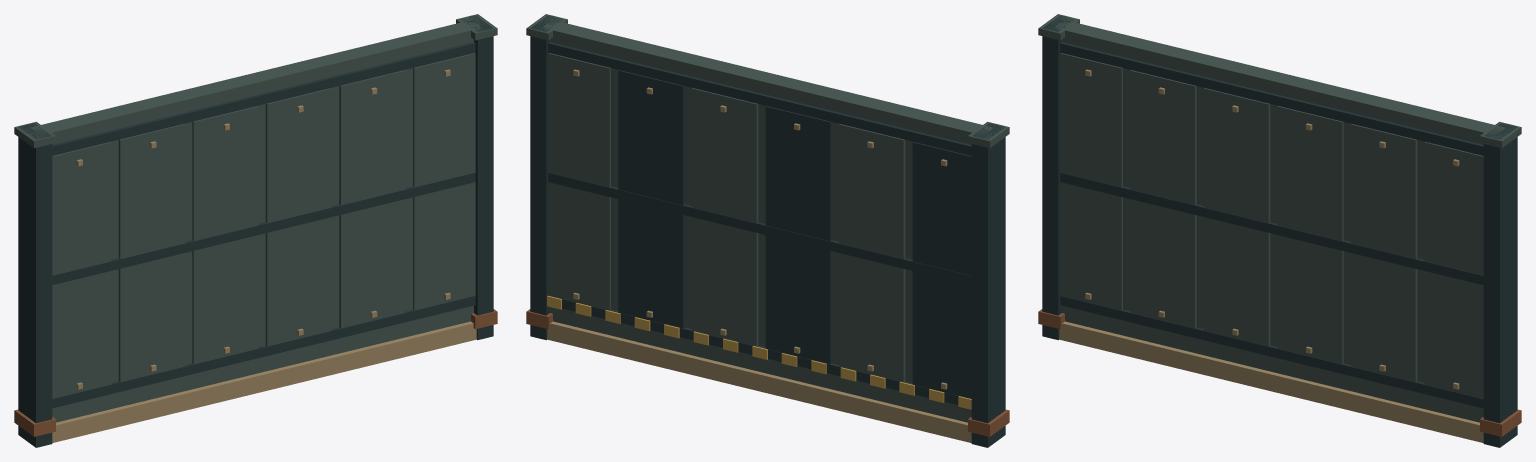
The model's file is FSA_ENV_Protected_Straight.glb.
3 renders of one model, left to right at view 1: azimuth 30°, elevation 25°; view 2: azimuth 150°, elevation 25°; view 3: azimuth 330°, elevation 25°, orthographic.
Parts seen in each view (by area): view 1: X_ContinuousBlocker, X_PlateBack3_5, X_PlateBack4_5, X_PlateBack1_5, X_PlateBack2_5, X_PlateBack5_5, X_PlateBack0_5, X_Post0, X_Foot, X_Post6, X_Rail3_78, X_Rail2_1 (+4 smaller); view 2: X_ContinuousBlocker, X_Plate3_5, X_Plate4_5, X_Plate1_5, X_Plate2_5, X_Plate5_5, X_Plate0_5, X_Post0, X_Foot, X_Post6, X_Rail3_78, X_Rail2_1 (+4 smaller); view 3: X_ContinuousBlocker, X_PlateBack2_5, X_PlateBack1_5, X_PlateBack4_5, X_PlateBack3_5, X_PlateBack0_5, X_PlateBack5_5, X_Post6, X_Foot, X_Post0, X_Rail3_78, X_Rail2_1 (+4 smaller).
Part boxes in pixels (box(x1,y1,x2,y2)): X_ContinuousBlocker: box(31, 21, 481, 422); X_PlateBack3_5: box(265, 88, 331, 346); X_PlateBack4_5: box(339, 70, 405, 328); X_PlateBack1_5: box(118, 124, 184, 382); X_PlateBack2_5: box(192, 106, 258, 364); X_PlateBack5_5: box(413, 53, 475, 310); X_PlateBack0_5: box(52, 142, 111, 398); X_Post0: box(18, 123, 52, 447); X_Foot: box(52, 321, 476, 442); X_Post6: box(460, 15, 493, 340); X_Rail3_78: box(52, 42, 475, 155); X_Rail2_1: box(52, 172, 475, 285); X_ContinuousBlocker: box(542, 20, 992, 422); X_Plate3_5: box(692, 88, 758, 346); X_Plate4_5: box(618, 70, 684, 328); X_Plate1_5: box(839, 124, 905, 382); X_Plate2_5: box(765, 106, 831, 364); X_Plate5_5: box(548, 53, 610, 310); X_Plate0_5: box(912, 142, 971, 398); X_Post0: box(971, 123, 1005, 447); X_Foot: box(547, 321, 971, 442); X_Post6: box(530, 15, 563, 340); X_Rail3_78: box(548, 42, 971, 155); X_Rail2_1: box(548, 172, 971, 285); X_ContinuousBlocker: box(1054, 20, 1505, 422); X_PlateBack2_5: box(1204, 88, 1270, 346); X_PlateBack1_5: box(1130, 70, 1196, 328); X_PlateBack4_5: box(1351, 124, 1417, 382); X_PlateBack3_5: box(1277, 106, 1343, 364); X_PlateBack0_5: box(1060, 53, 1122, 310); X_PlateBack5_5: box(1424, 142, 1483, 398); X_Post6: box(1483, 123, 1517, 447); X_Foot: box(1059, 321, 1483, 442); X_Post0: box(1042, 15, 1075, 340); X_Rail3_78: box(1060, 42, 1483, 155); X_Rail2_1: box(1060, 172, 1483, 285).
Size of the model in its own units: 6.3 by 4 by 0.46.
